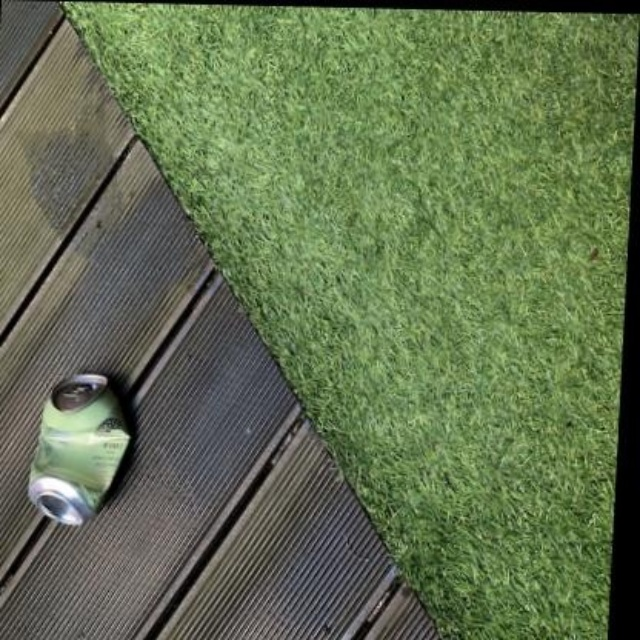trash: (28, 374, 129, 525)
